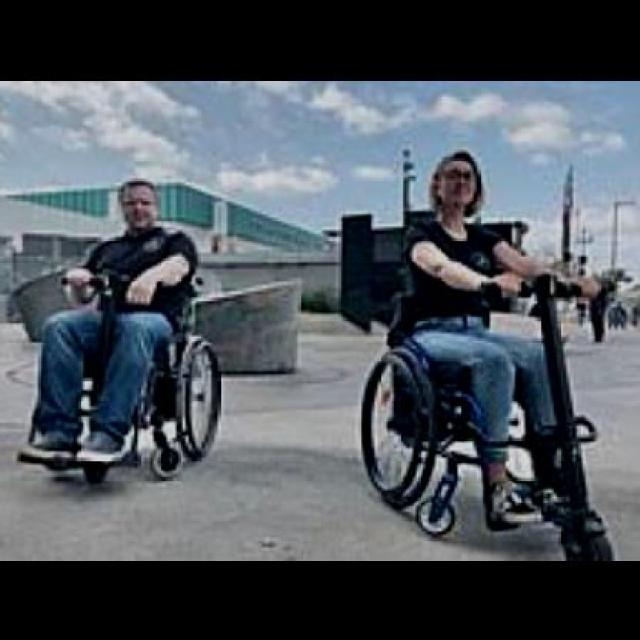wheelchairs: (356, 298, 574, 538), (16, 272, 223, 484)
